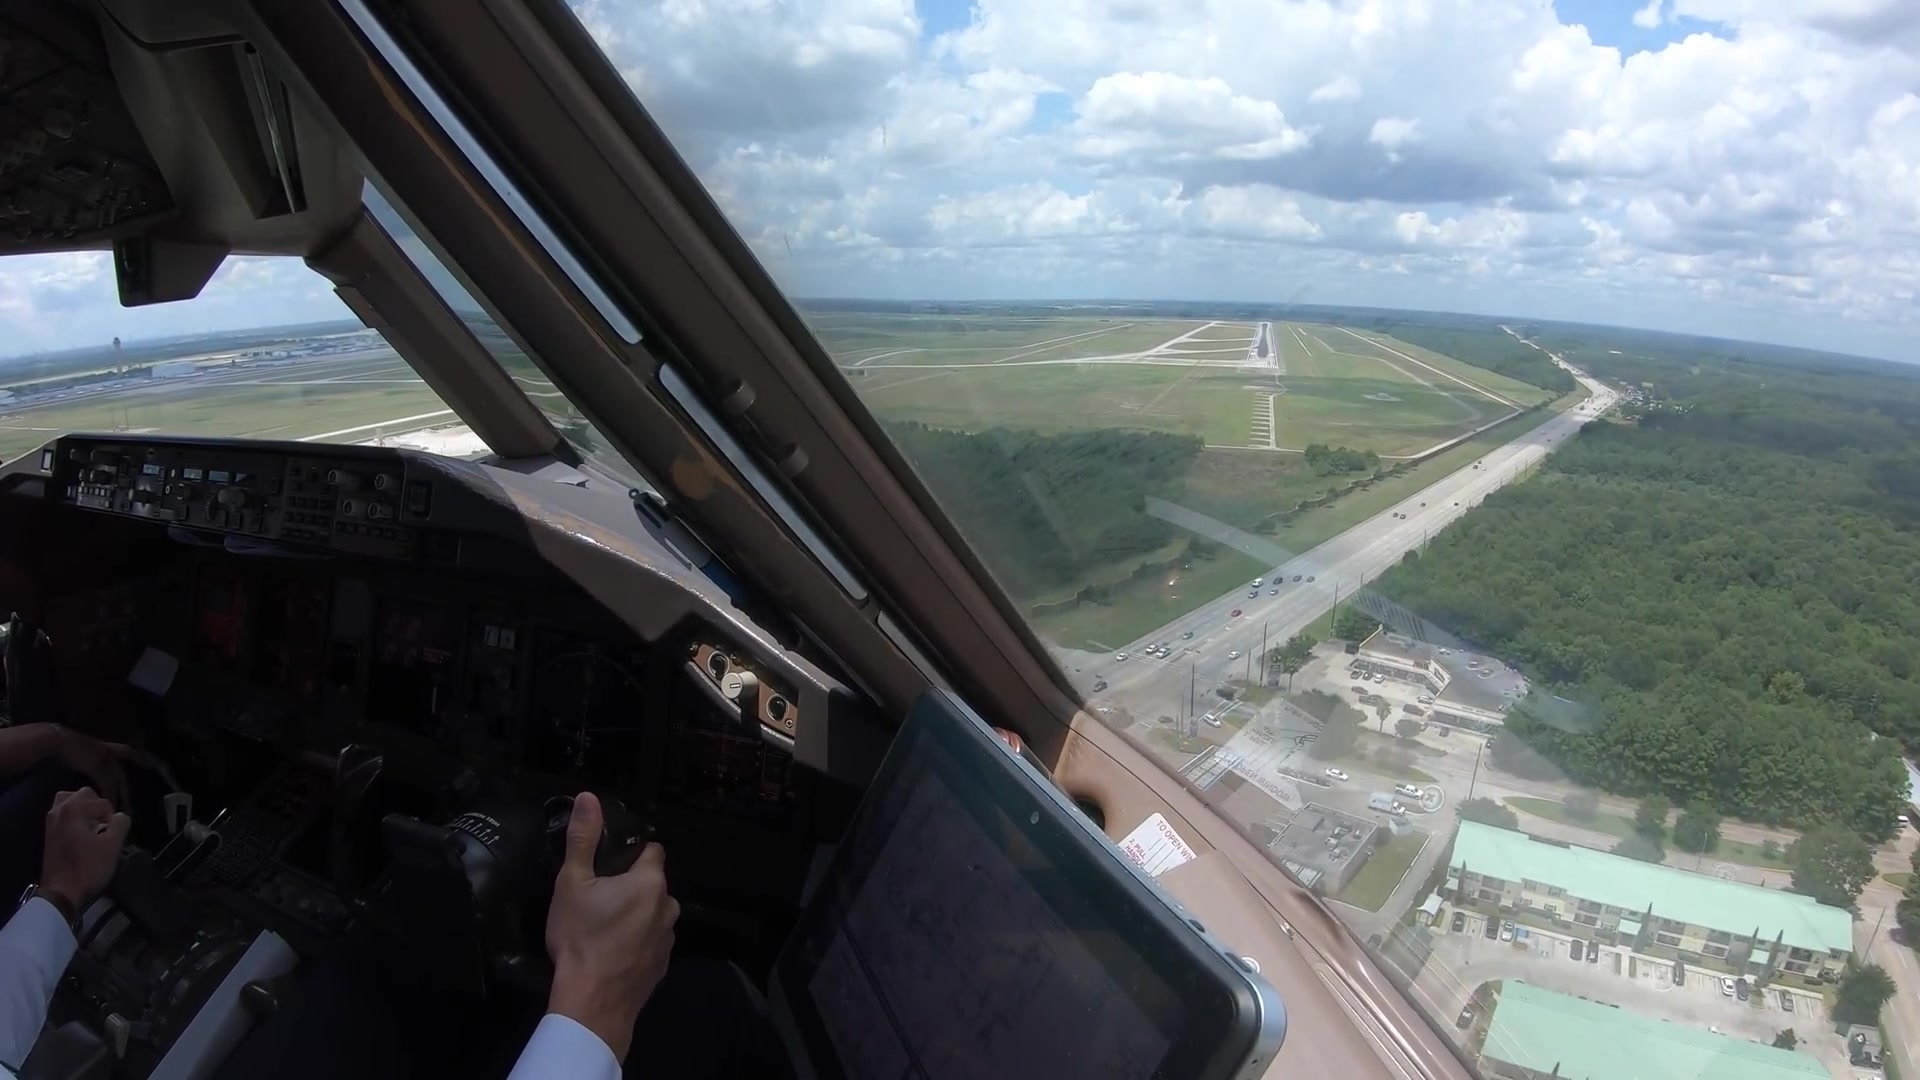runway: (1242, 320, 1279, 371)
